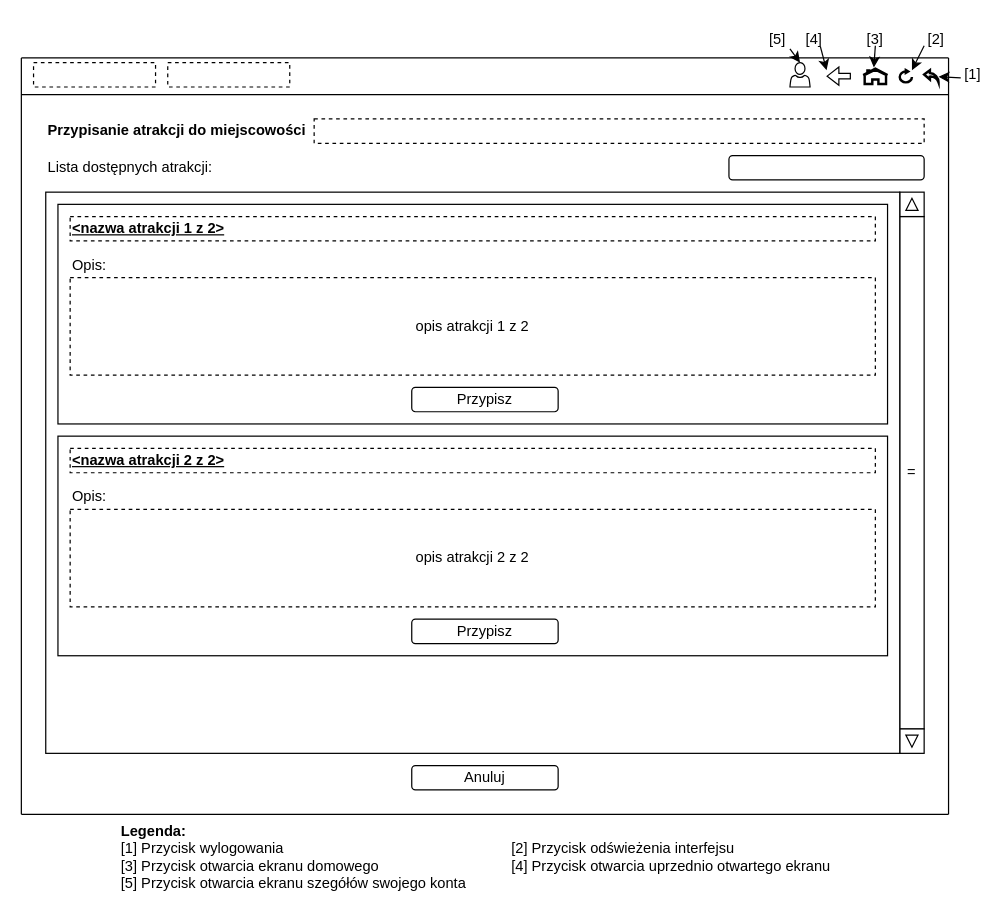
Image size: 1007x920. Some labels were removed from this diagram. The centre of each missing label's shape, as x and y in pixels:
<nazwa miejscowości> :: (x=618, y=130)
login: (x=94, y=74)
Przypisz nową atrakcję: (x=826, y=167)
rola: (x=228, y=74)
